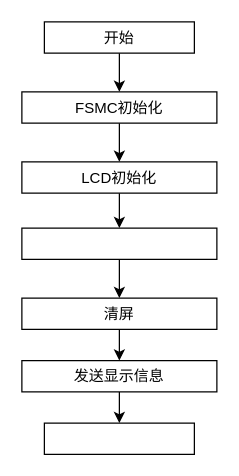
Some shapes in this 239 by 476 pixel diagram are drawn without their labels. Each missing label, with the box of its shape:
设置显示位置: (21, 227, 217, 259)
返回: (43, 422, 194, 454)
